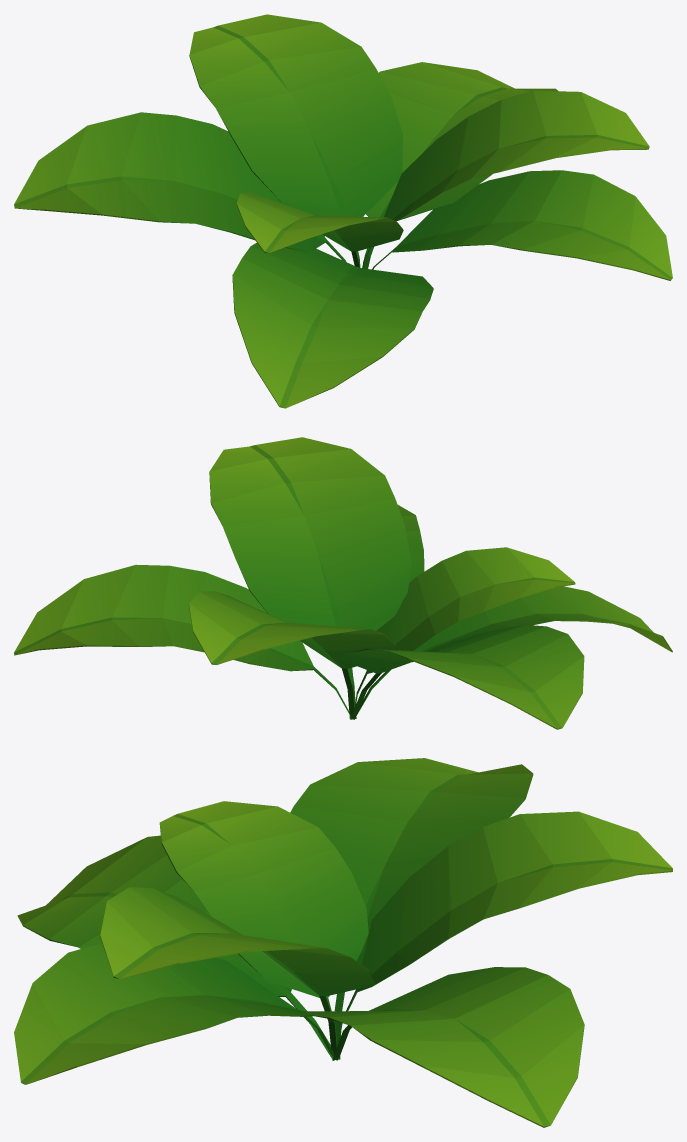
The model's file is Plant_01.fbx.
The picture shows the model from 3 angles, top to bottom: view 1: azimuth 30°, elevation 25°; view 2: azimuth 150°, elevation 25°; view 3: azimuth 270°, elevation 25°; orthographic projection. The views are drawn at different scales.
Visible parts, largest first — view 1: Plant_01; view 2: Plant_01; view 3: Plant_01.
Boxes of the visible parts, x1,y1,x2,y2 form: Plant_01: (14, 14, 672, 408); Plant_01: (14, 437, 672, 729); Plant_01: (14, 758, 672, 1127).
Bounding box in the file's own units: 95.14 × 30.86 × 85.36.
